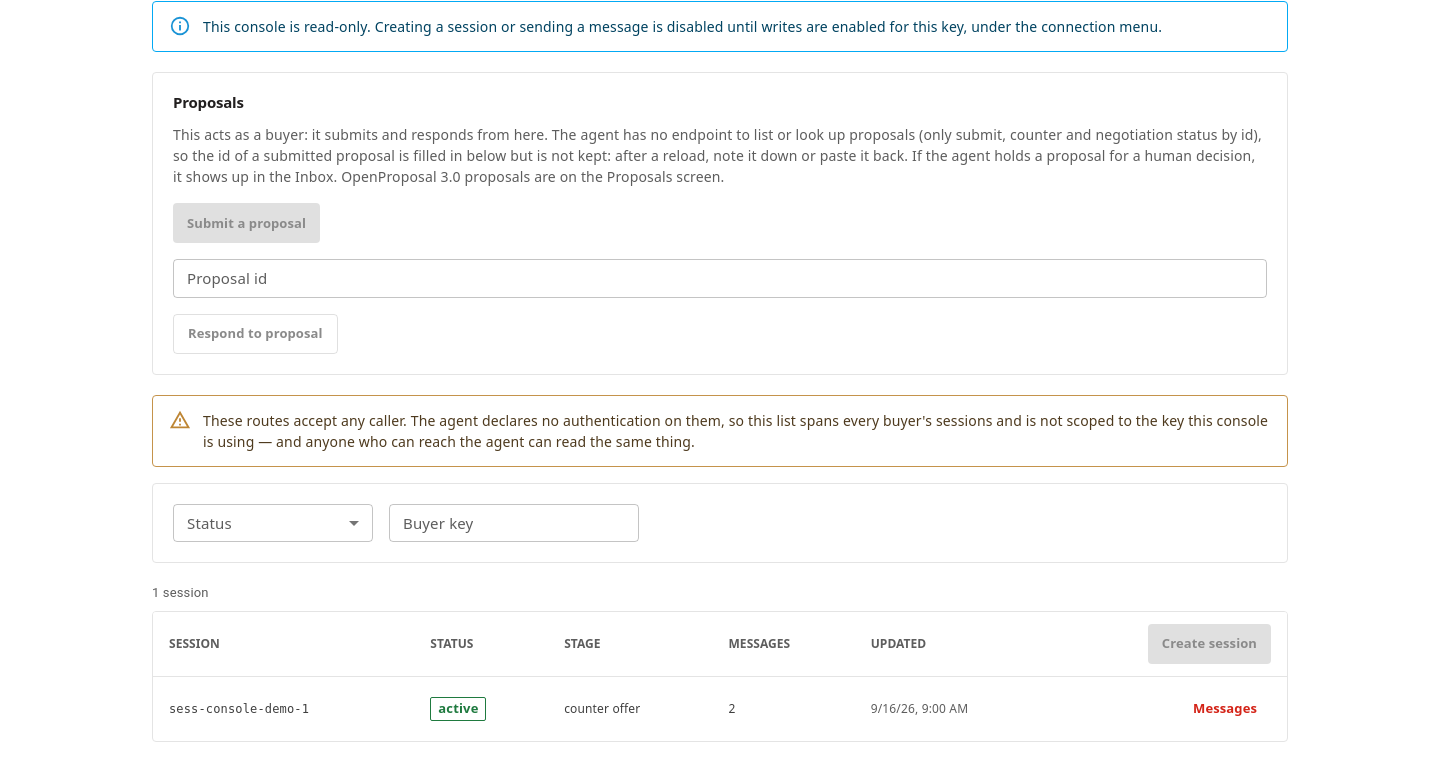
the negotiation screen › shows a session with no messages as no-messages, not blank
The image size is (1440, 774).
(page scrolled)
expect the text "sess-console-demo-1" is shown: met, box [153,676,414,741]
Click the button "Messages" at [1225, 709], box [1179,689,1271,729]
(page scrolled)
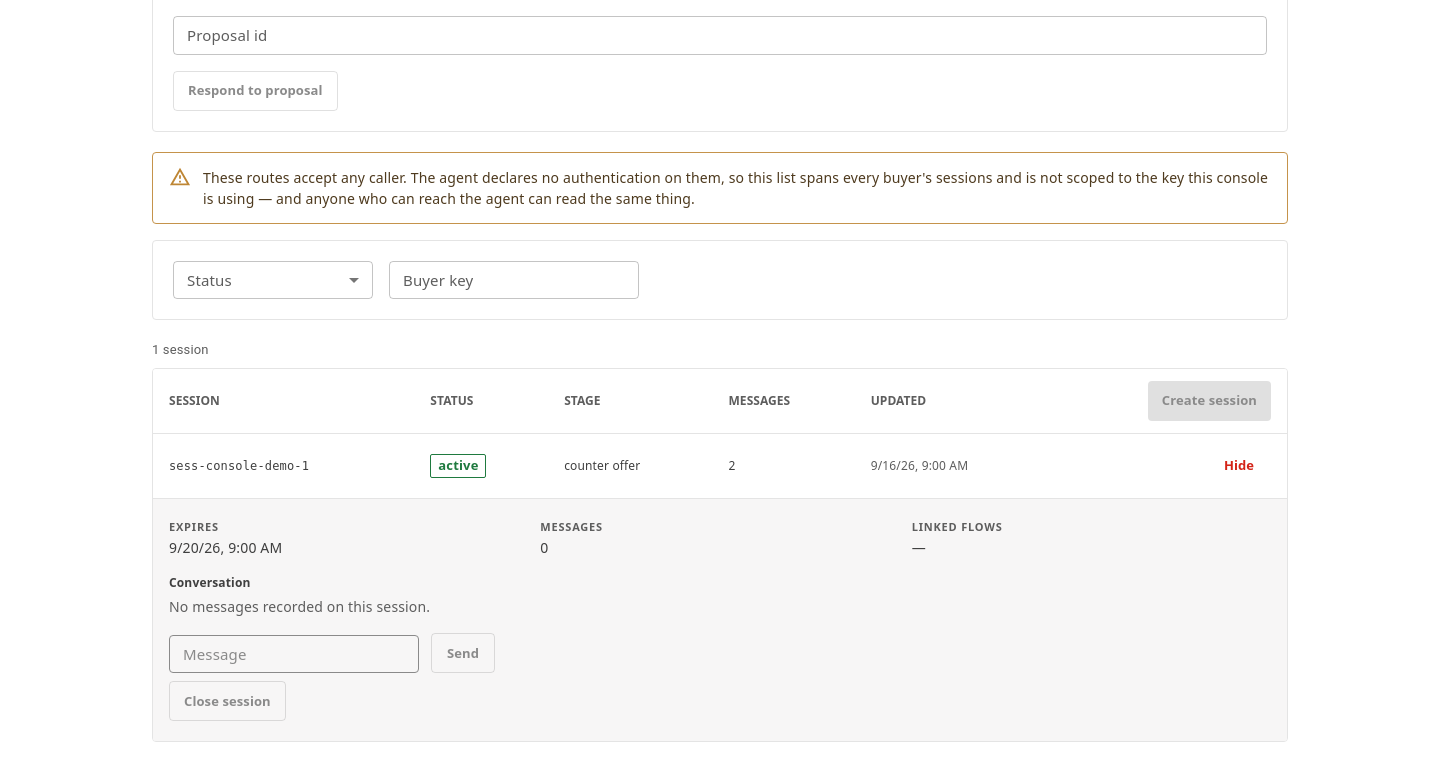
expect the text "No messages recorded on this session." is shown: met, box [169,597,430,616]
